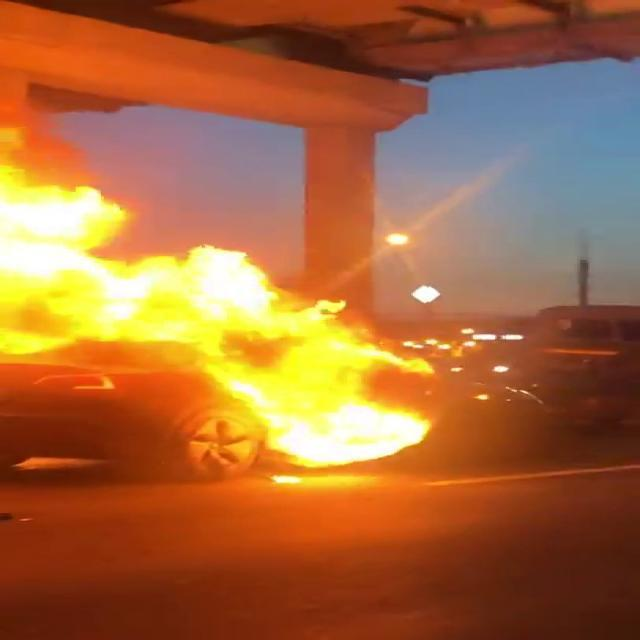Fire: (2, 108, 330, 358), (198, 332, 458, 479)
